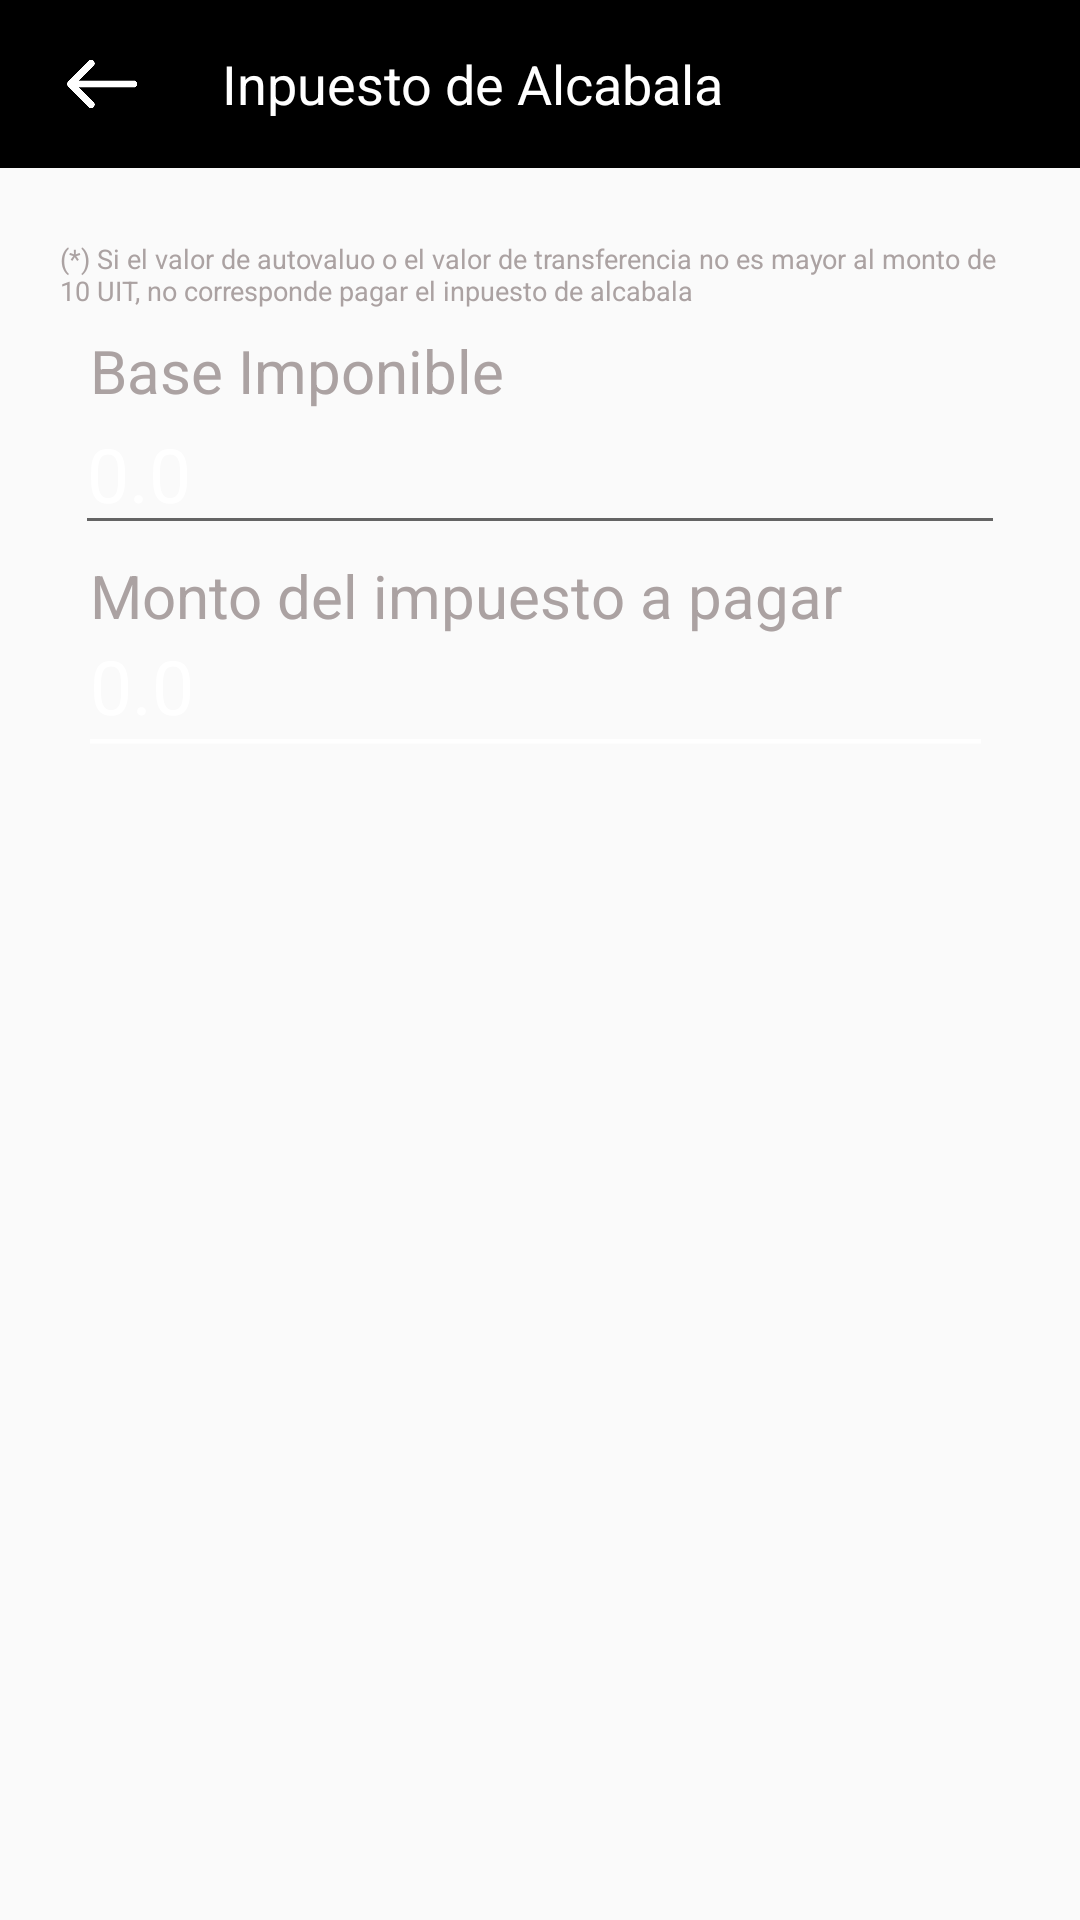

Screen size 1080 x 1920. Icon name, then its box in pixels as (x1=x1, y1=y1, x2=x2, y2=y2):
calculadora atras fecha: (x1=67, y1=60, x2=137, y2=108)
